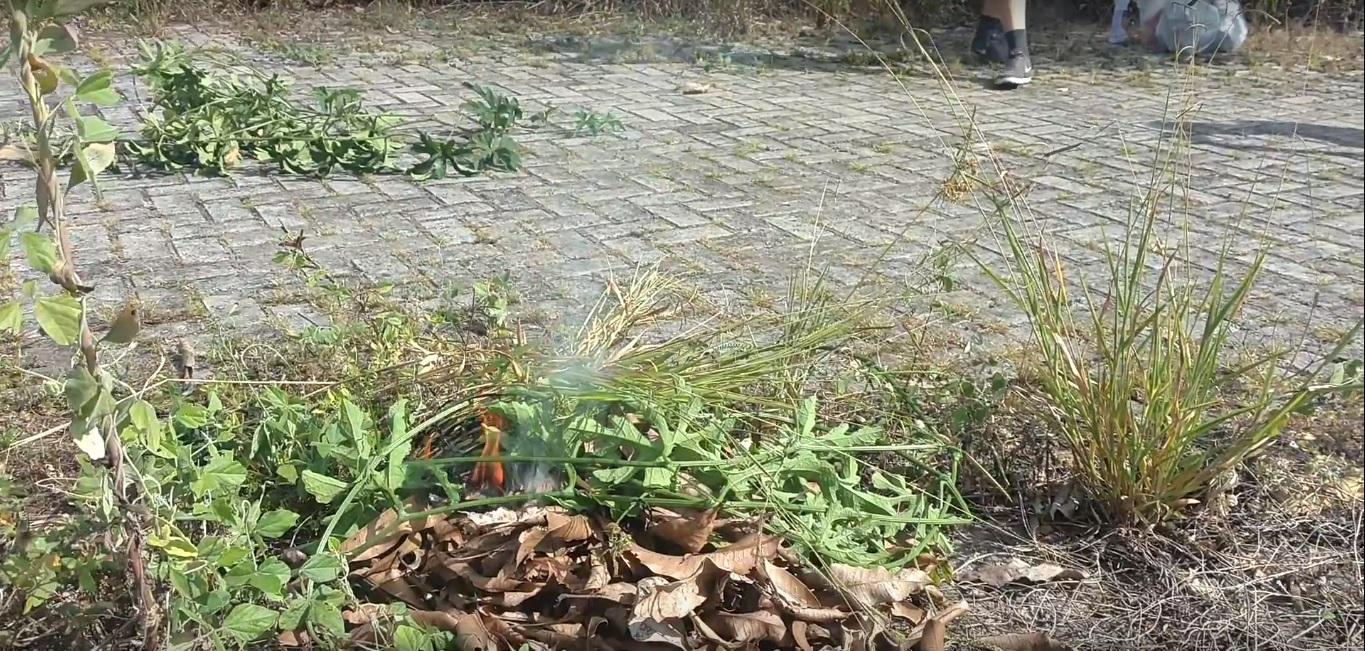smoke: (528, 337, 582, 460)
